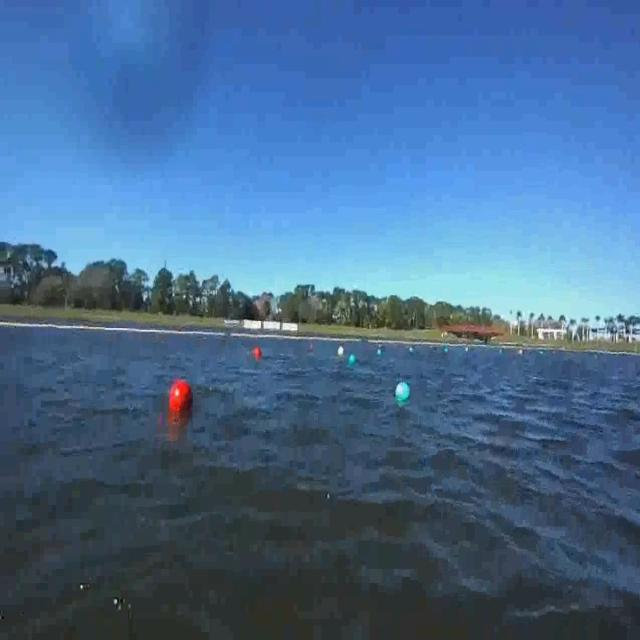green-buoy: (398, 380, 411, 404), (349, 353, 357, 367)
red-buoy: (168, 378, 195, 415), (254, 347, 261, 359)
